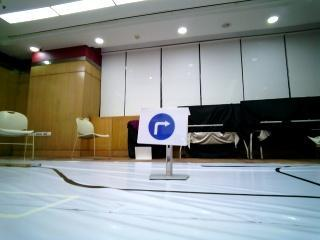right: (137, 105, 192, 144)
